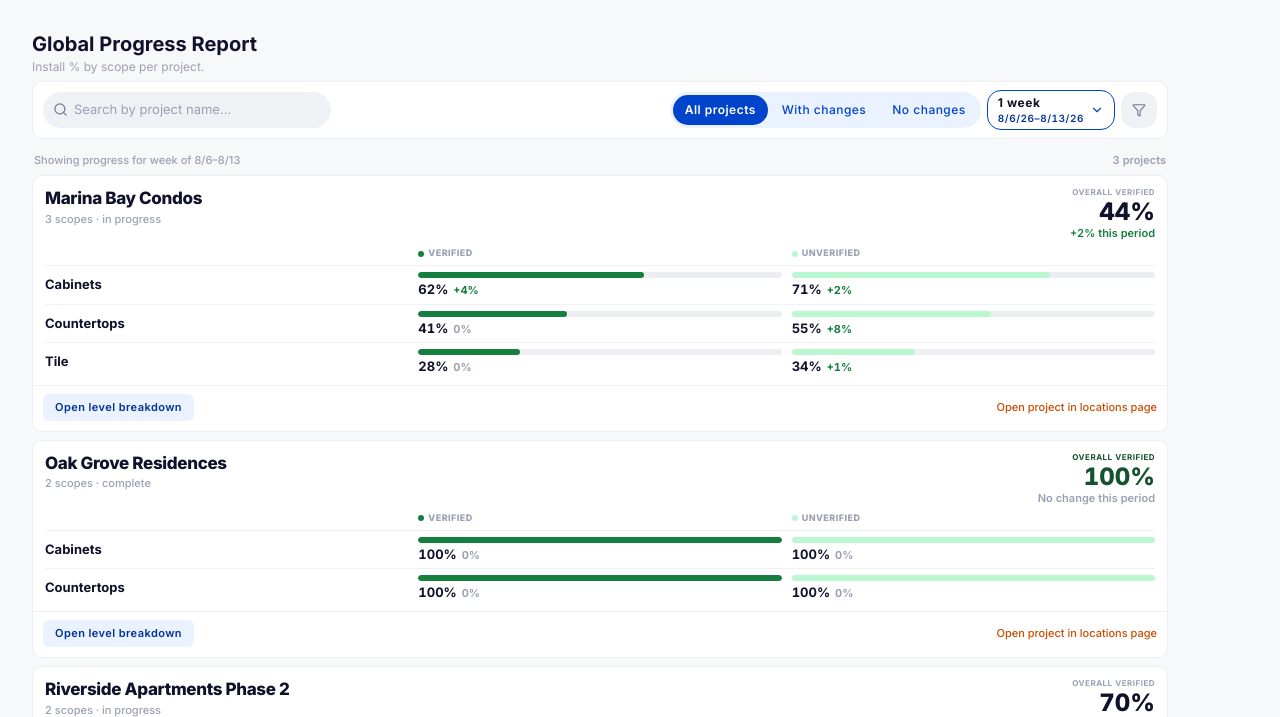
Test: PortfolioProgressWireframe › renders sticky building headers inside the modal scroll body
The image size is (1280, 717).
Expected: the heading "Marina Bay Condos" is shown, [45,188,202,208]
Click the button with aria-label "Open level breakdown for Marina Bay Condos": (118, 408) [43,394,194,421]
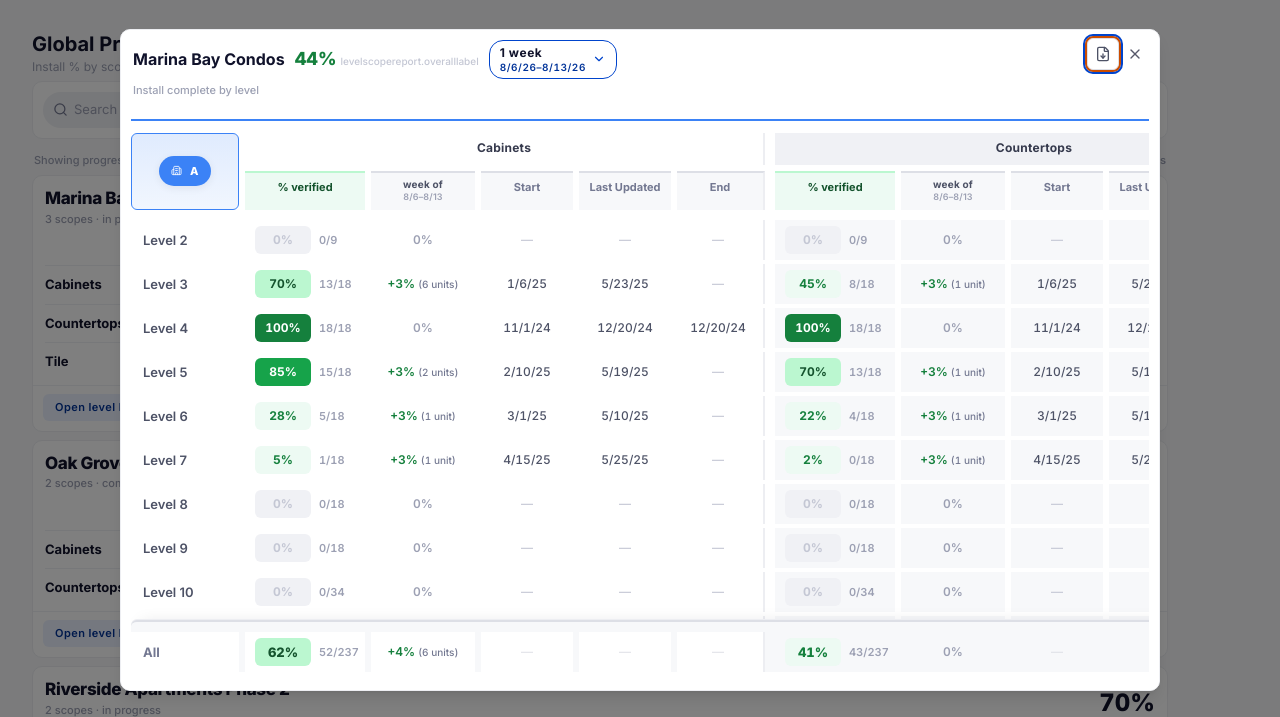
Expected: the dialog is shown
Expected: the text "Install complete by level" is shown, [133,83,259,97]
Expected: the element that starts with "Cabinets" is shown
